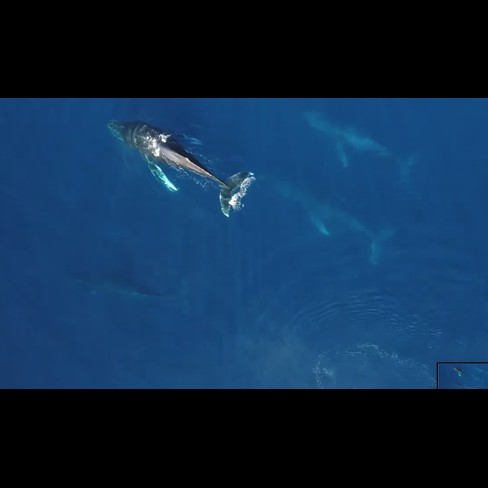hump: (102, 114, 256, 222), (265, 170, 402, 269), (298, 107, 424, 190), (69, 267, 195, 308)
